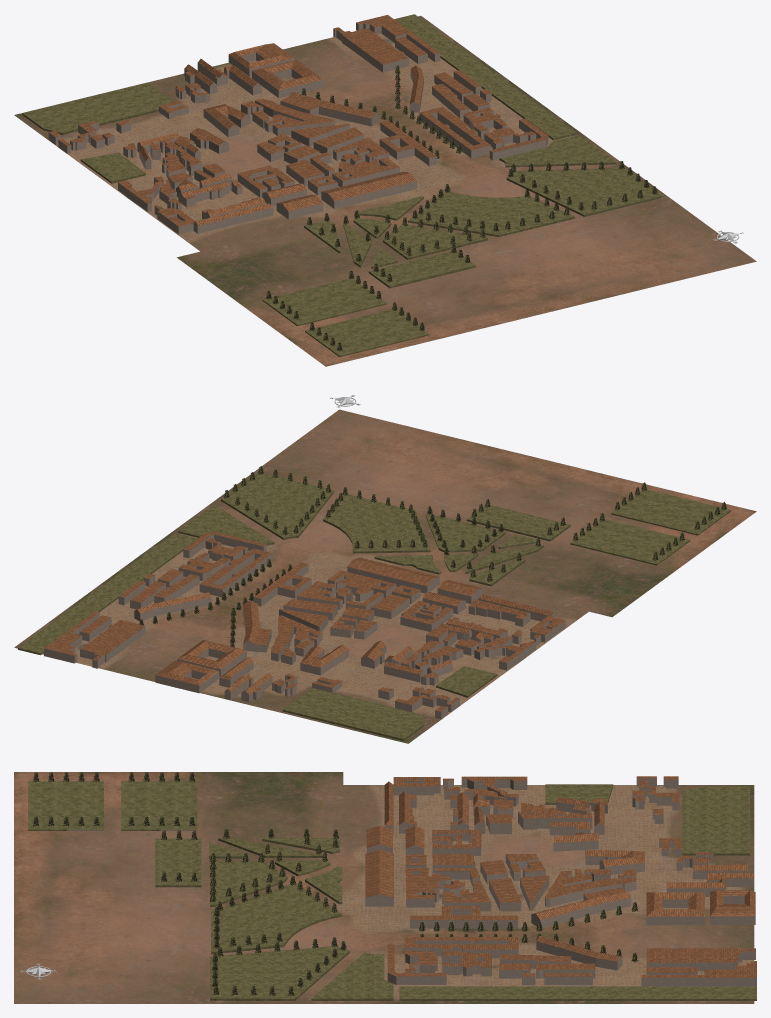
The model's file is MapaVidrio_01.fbx.
The picture shows the model from 3 angles, top to bottom: view 1: azimuth 30°, elevation 25°; view 2: azimuth 150°, elevation 25°; view 3: azimuth 270°, elevation 25°; orthographic projection. The views are drawn at different scales.
Visible parts, largest first — view 1: Plane, Cube.004, Plane.073; view 2: Plane, Cube.004, Plane.073; view 3: Plane, Cube.004, Plane.073, Tree_4_Environment_0.026.
Part boxes in pixels (x1,y1,x2,y2): Plane: [14, 16, 756, 366]; Cube.004: [22, 14, 662, 357]; Plane.073: [49, 15, 548, 226]; Plane: [14, 409, 756, 743]; Cube.004: [18, 473, 731, 740]; Plane.073: [44, 532, 565, 711]; Plane: [14, 772, 754, 1003]; Cube.004: [28, 777, 756, 1000]; Plane.073: [365, 776, 756, 977]; Tree_4_Environment_0.026: [419, 922, 542, 931].
Size of the model in its own units: 62.79 by 3.51 by 85.03.
